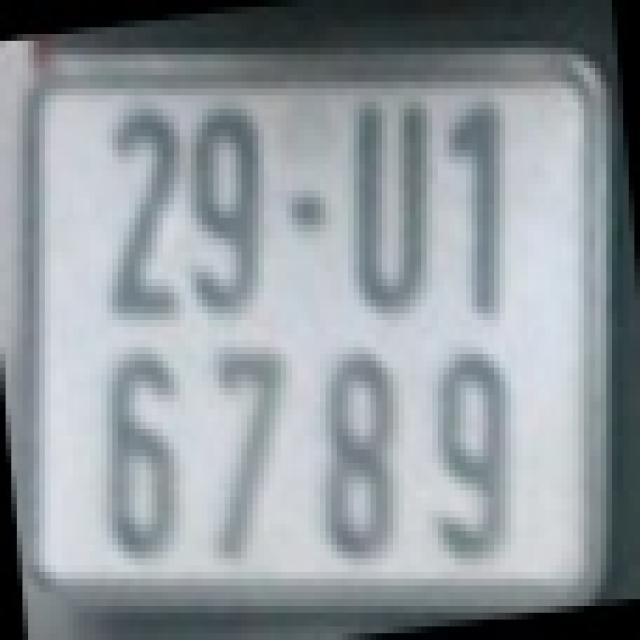1: (449, 102, 511, 320)
2: (107, 109, 185, 313)
6: (101, 348, 180, 558)
7: (208, 348, 280, 558)
8: (320, 348, 399, 558)
9: (432, 348, 511, 558), (191, 109, 264, 313)
U: (348, 102, 432, 307)
